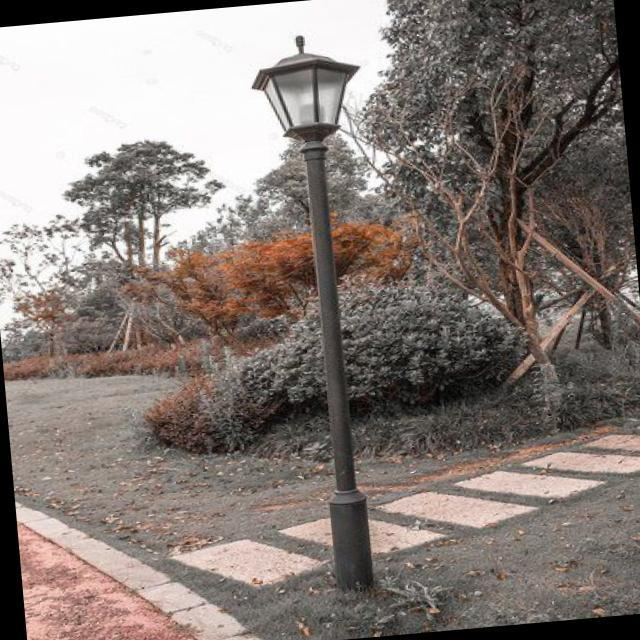off: (240, 24, 380, 176)
